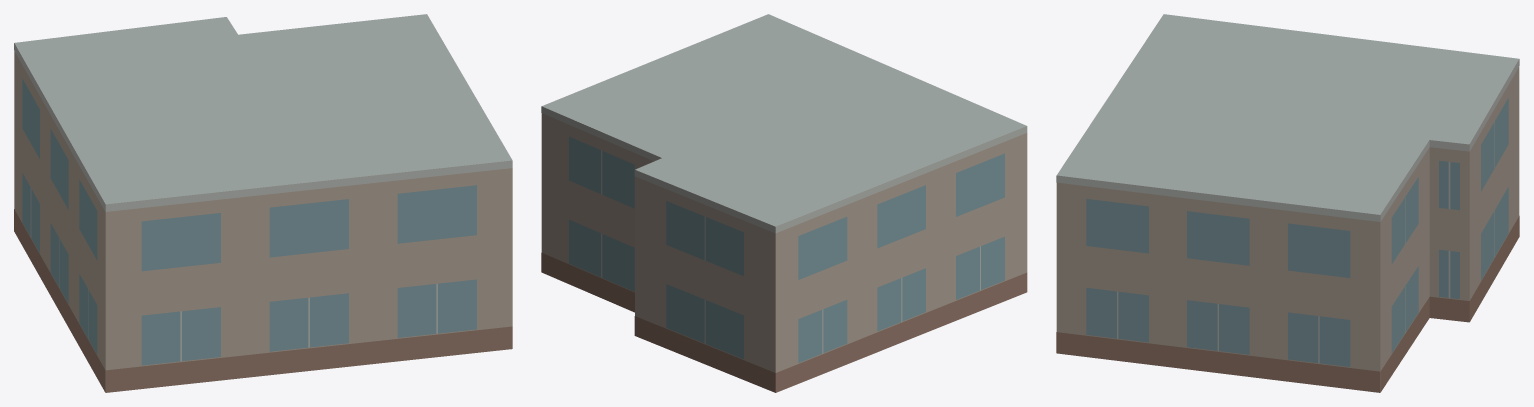
Rendered from survey-upis-32656219.glb.
3 views of the same model, side by side, from view 1: azimuth 30°, elevation 25°; view 2: azimuth 150°, elevation 25°; view 3: azimuth 270°, elevation 25° (orthographic). The views are drawn at different scales.
Visible parts, largest first — view 1: survey-upis-32656219.tmp; view 2: survey-upis-32656219.tmp; view 3: survey-upis-32656219.tmp.
Boxes of the visible parts, x1=… form: survey-upis-32656219.tmp: x1=14, y1=14, x2=512, y2=392; survey-upis-32656219.tmp: x1=541, y1=14, x2=1027, y2=392; survey-upis-32656219.tmp: x1=1056, y1=14, x2=1519, y2=392.
Size of the model in its own units: 14.79 by 6.1 by 14.4.
